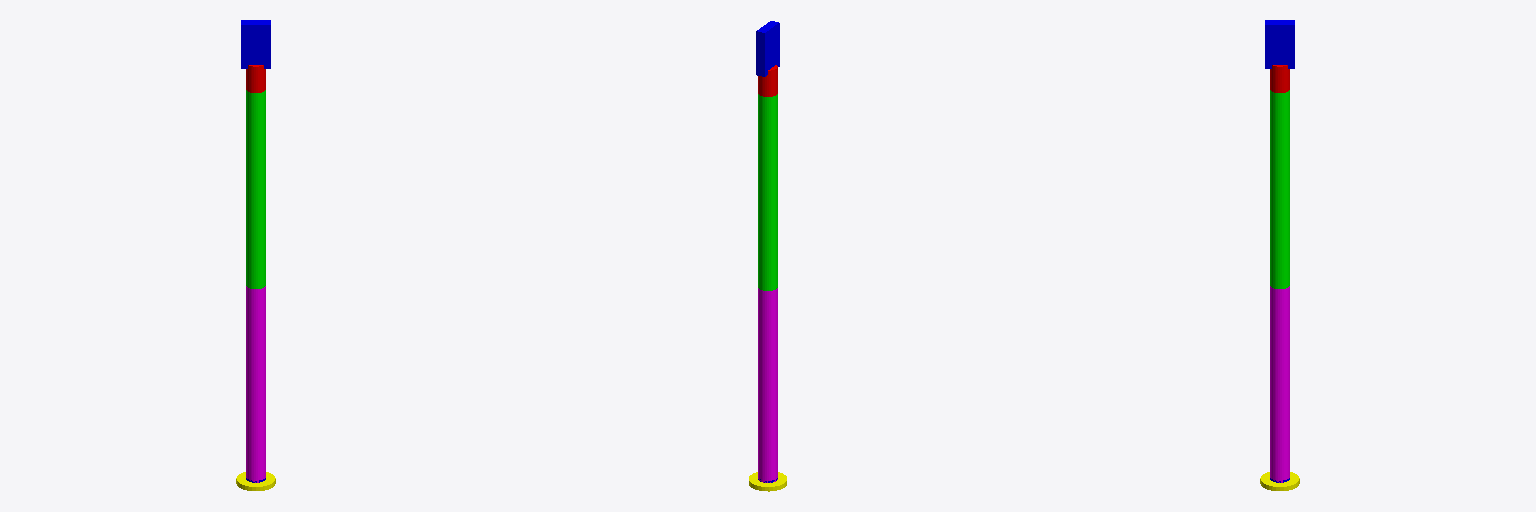
URDF robot description (skyline_robot):
<?xml version="1.0"?>
<!-- http://wiki.ros.org/urdf/XML/link  -->
<robot name="skyline_robot">

	<!-- Base link -->
	<link name="link_base">
		<visual>
			<geometry>
				<cylinder length="0.05" radius="0.2"/>
			</geometry>
			
			<!--origin - the reference frame of the visul element with resppect to the reference frame of the link -->
			<!-- rpy -r is roll, p-pitch, and y -yaw -->
			<!-- xyz - x, y, z -offsets -->
			<origin rpy="0 0 0" xyz="0 0 0"/>
			<material name = "yellow">
				<color rgba="1 1 0 1"/>
			</material>
		</visual>
	</link>


<!-- Lazy Susan Yaw Joint -->
	<!-- joint_susan_y -->
	<joint name="joint_susan_y" type="revolute">
		<parent link="link_base"/>
		<child link="link_susan_y"/>
			<origin xyz="0 0 0"/>
			<axis xyz="0 0 1"/>
			<limit effort="300" velocity="2.0" lower="-1.6" upper="1.6" />
	</joint>

	<!-- link_susan -->
	<link name="link_susan_y">
	<visual>
		<geometry>
			<cylinder length="0.1" radius="0.1"/>
		</geometry>
			
		<origin rpy="0 0 0" xyz="0 0 0"/>
		<material name = "blue">
			<color rgba="0 0 1 1"/>
		</material>
	</visual>
	</link>

<!-- Lazy Susan Pitch Joint -->
	<!-- joint_susan_pitch -->
	<joint name="joint_susan_p" type="revolute">
		<parent link="link_susan_y"/>
		<child link="link_susan_p"/>
			<origin xyz="0 0 0"/>
			<axis xyz="0 2 0"/>
			<limit effort="300" velocity="2.0" lower="-1.6" upper="1.6" />
	</joint>

	<!-- link_susan_pitch -->
	<link name="link_susan_p">
	<visual>
		<geometry>
			<cylinder length="2.2" radius="0.1"/>
		</geometry>
			
		<origin rpy="0 0 0" xyz="0 0 1.1"/>
		<material name = "purple">
			<color rgba="1 0 1 1"/>
		</material>
	</visual>
	</link>


<!-- Mid Arm Joint -->
	<!-- joint_mid -->
	<joint name="joint_mid_p" type="revolute">
		<parent link="link_susan_p"/>
		<child link="link_mid_p"/>
			<origin xyz="0 0 2.2"/>
			<axis xyz="0 1 0"/>
			<limit effort="300" velocity="2.0" lower="-1.6" upper="1.6" />
	</joint>

	<!-- link_mid -->
	<link name="link_mid_p">
	<visual>
		<geometry>
			<cylinder length="2.2" radius="0.1"/>
		</geometry>
			
		<origin rpy="0 0 0" xyz="0 0 1.1"/>
		<material name = "green">
			<color rgba="0 1 0 1"/>
		</material>
	</visual>
	</link>

<!-- Wrist Pitch Joint -->
	<!-- joint_wrist_pitch -->
	<joint name="joint_wrist_p" type="revolute">
		<parent link="link_mid_p"/>
		<child link="link_wrist_p"/>
			<origin xyz="0 0 2.2"/>
			<axis xyz="0 1 0"/>
			<limit effort="300" velocity="2.0" lower="-1.6" upper="1.6" />
	</joint>

	<!-- link_wrist_pitch -->
	<link name="link_wrist_p">
	<visual>
		<geometry>
			<cylinder length="0.3" radius="0.1"/>
		</geometry>
			
		<origin rpy="0 0 0" xyz="0 0 0.15"/>
		<material name = "red">
			<color rgba="1 0 0 1"/>
		</material>
	</visual>
	</link>

<!-- Wrist Roll Joint -->
	<!-- joint_wrist_roll -->
	<joint name="joint_wrist_r" type="revolute">
		<parent link="link_wrist_p"/>
		<child link="link_wrist_r"/>
			<origin xyz="0 0 0.25"/>
			<axis xyz="0 1 0"/>
			<limit effort="300" velocity="2.0" lower="-1.6" upper="1.6" />
	</joint>

	<!-- link_wrist_roll -->
	<link name="link_wrist_r">
	<visual>
		<geometry>
			<box size="0.1 0.3 0.5" />
		</geometry>
			
		<origin rpy="0 0 0" xyz="0 0 0.25"/>
		<material name = "blue">
			<color rgba="0 0 1 1"/>
		</material>
	</visual>
	</link>


</robot>

--- What the picture shows (computed from the rendered views, not written in the file) ---
The picture shows the robot from 3 angles, left to right: view 1: azimuth 90°, elevation 25°; view 2: azimuth 150°, elevation 25°; view 3: azimuth 270°, elevation 25°; orthographic projection.
Robot: skyline_robot — 6 links, 5 joints (5 revolute); root link link_base; default pose: every joint at zero.
Links seen in each view (by area): view 1: link_mid_p, link_susan_p, link_wrist_r, link_wrist_p; view 2: link_mid_p, link_susan_p, link_wrist_r; view 3: link_mid_p, link_susan_p, link_wrist_r, link_wrist_p.
Boxes of the visible links, x1=… form: link_mid_p: x1=246, y1=90, x2=265, y2=288; link_susan_p: x1=246, y1=286, x2=265, y2=482; link_wrist_r: x1=241, y1=20, x2=270, y2=68; link_wrist_p: x1=246, y1=65, x2=265, y2=92; link_mid_p: x1=758, y1=94, x2=777, y2=290; link_susan_p: x1=758, y1=288, x2=777, y2=482; link_wrist_r: x1=756, y1=21, x2=779, y2=76; link_mid_p: x1=1270, y1=90, x2=1289, y2=288; link_susan_p: x1=1270, y1=286, x2=1289, y2=482; link_wrist_r: x1=1265, y1=20, x2=1294, y2=68; link_wrist_p: x1=1270, y1=65, x2=1289, y2=92.
Size in the robot's own frame: 0.4 by 0.4 by 5.2 metres.
Geometry: primitives only (box / cylinder / sphere), no mesh files.
